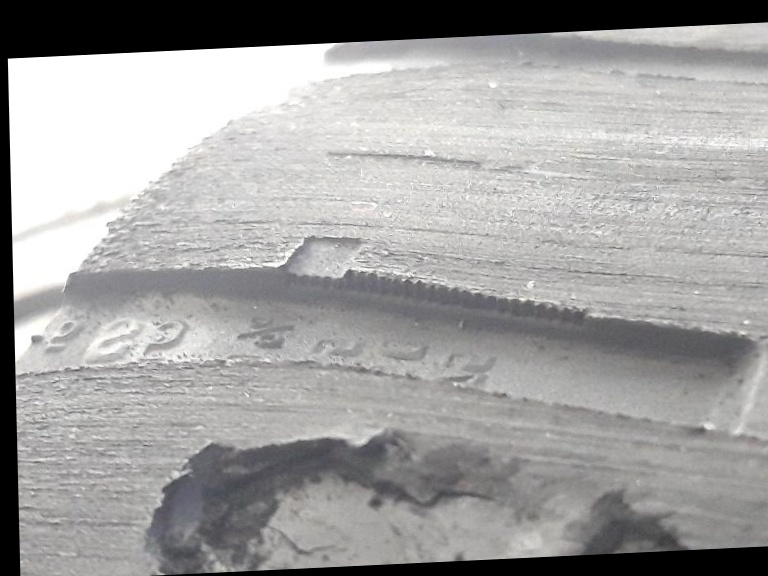temoin:0: (271, 226, 400, 321)
